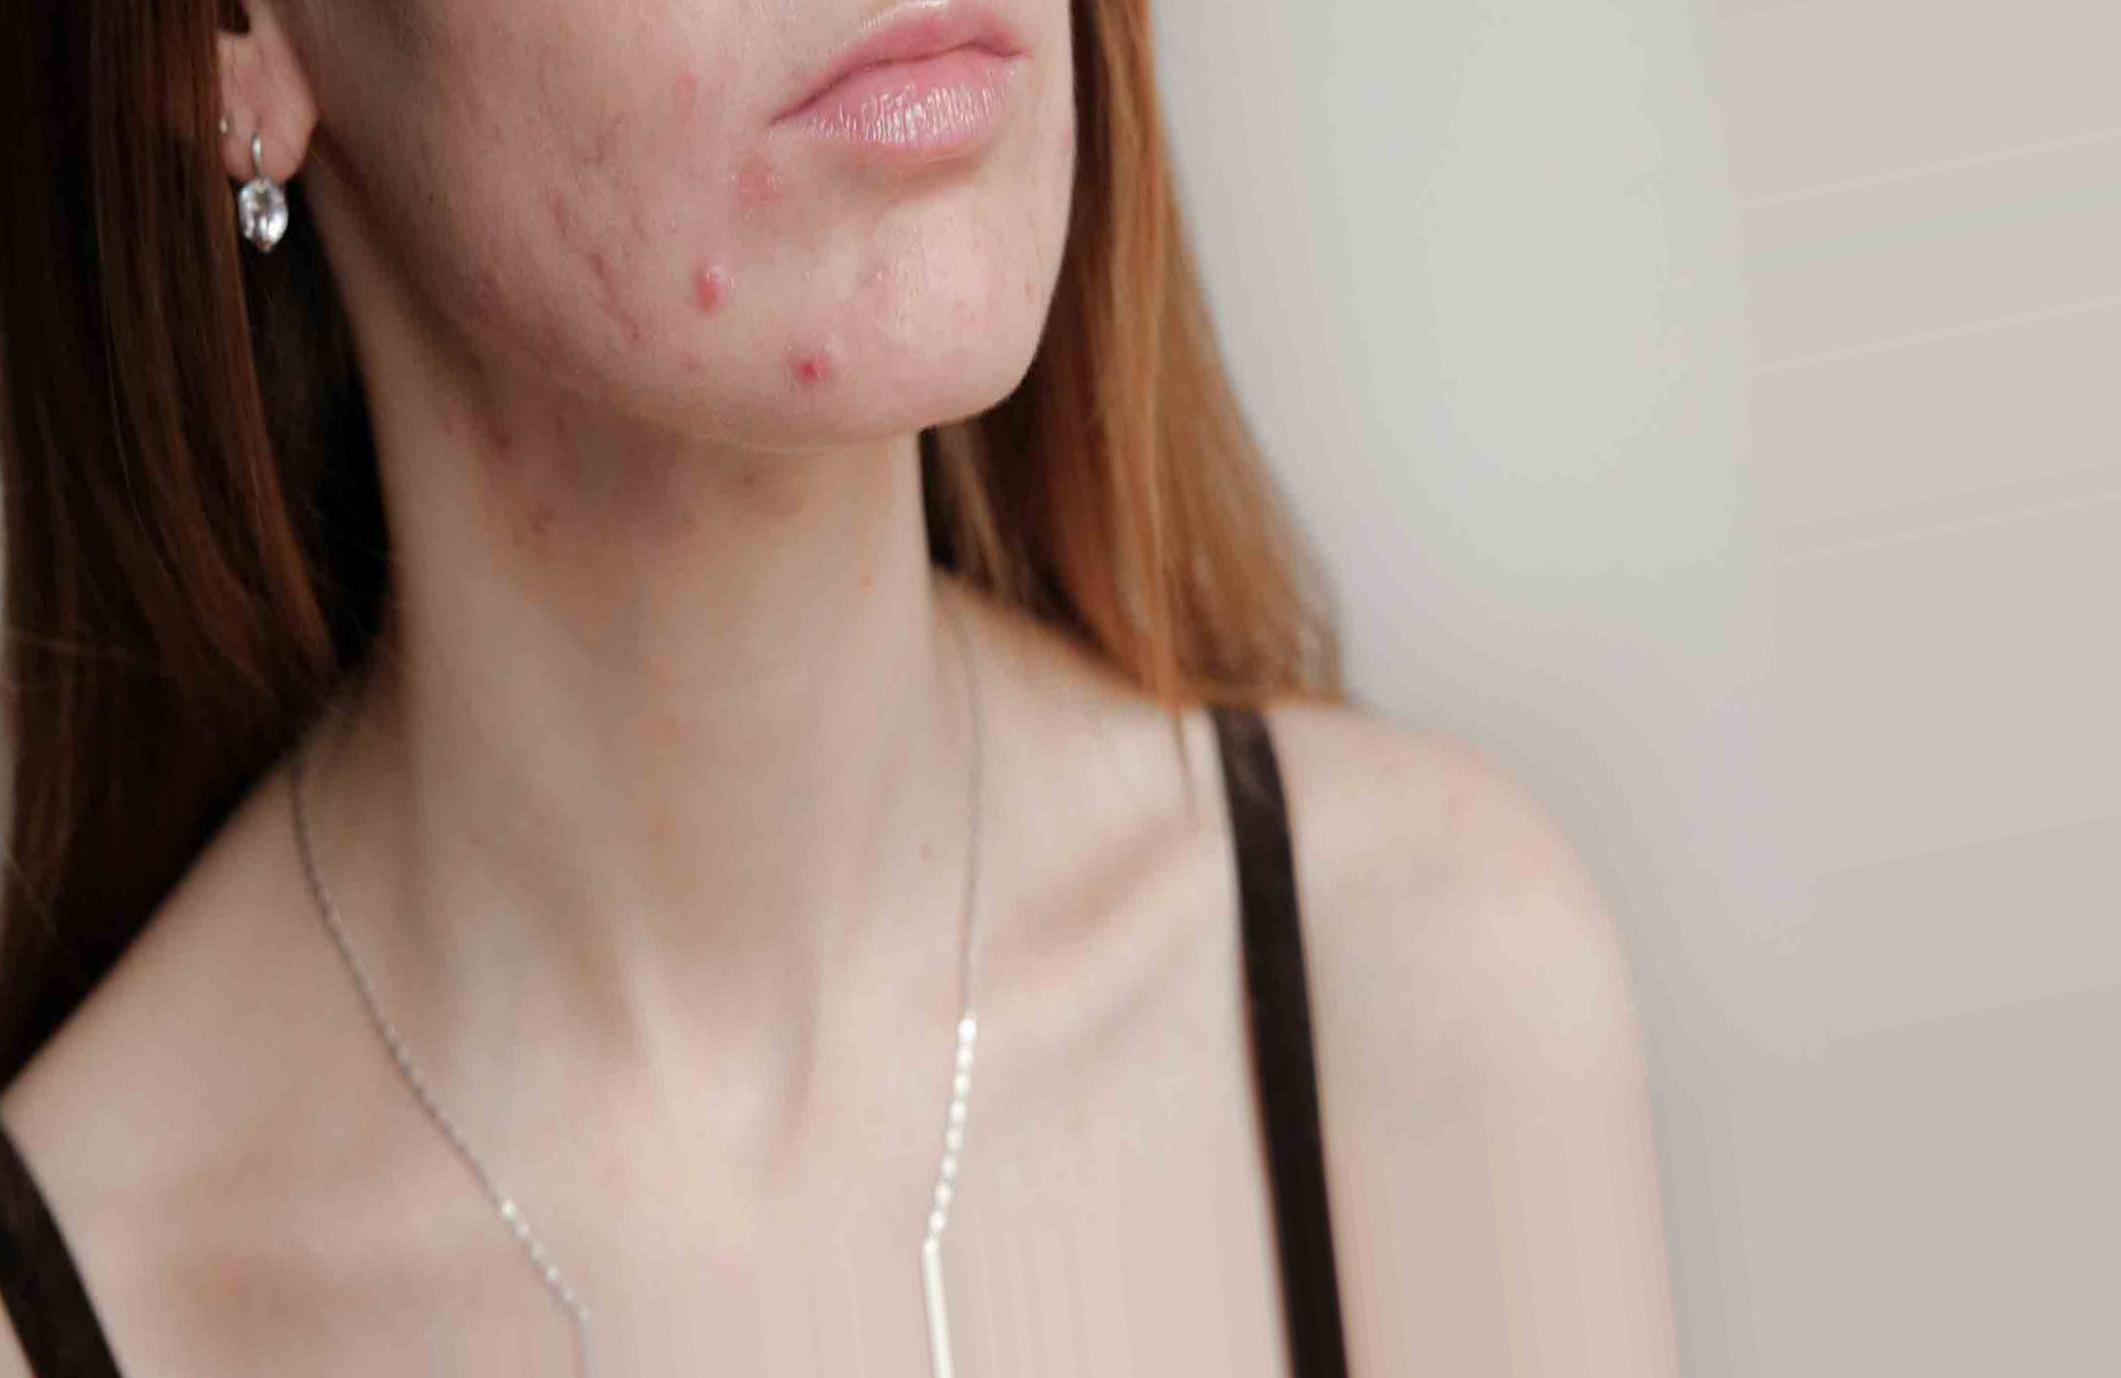Acne: (723, 133, 830, 230), (689, 227, 781, 320), (773, 329, 856, 401)
